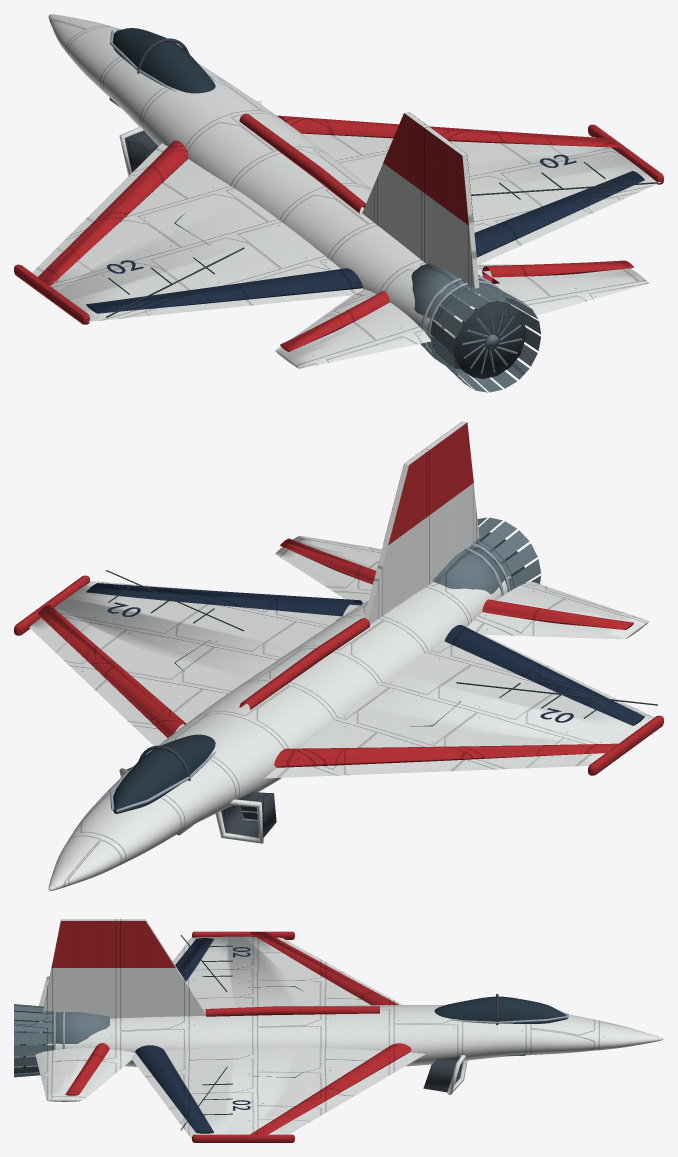
File: akari.glb
The picture shows the model from 3 angles, top to bottom: view 1: azimuth 30°, elevation 25°; view 2: azimuth 150°, elevation 25°; view 3: azimuth 270°, elevation 25°; orthographic projection. The views are drawn at different scales.
Parts seen in each view (by area): view 1: lacquer-surfaces, vermilion-surfaces, midnight-surfaces, titanium-surfaces, graphite-surfaces, Cockpit glass-surfaces, silver-surfaces, carbon-surfaces; view 2: lacquer-surfaces, vermilion-surfaces, midnight-surfaces, titanium-surfaces, Cockpit glass-surfaces, carbon-surfaces, graphite-surfaces, silver-surfaces; view 3: lacquer-surfaces, vermilion-surfaces, titanium-surfaces, midnight-surfaces, Cockpit glass-surfaces, carbon-surfaces, graphite-surfaces, silver-surfaces.
Part boxes in pixels (x1,y1,x2,y2): lacquer-surfaces: [32, 14, 660, 368]; vermilion-surfaces: [14, 112, 663, 351]; midnight-surfaces: [86, 154, 644, 313]; titanium-surfaces: [109, 97, 540, 392]; graphite-surfaces: [105, 146, 657, 378]; Cockpit glass-surfaces: [113, 28, 215, 93]; silver-surfaces: [110, 29, 506, 367]; carbon-surfaces: [124, 38, 189, 172]; lacquer-surfaces: [29, 421, 654, 890]; vermilion-surfaces: [14, 422, 663, 775]; midnight-surfaces: [86, 583, 644, 725]; titanium-surfaces: [177, 517, 540, 835]; Cockpit glass-surfaces: [113, 734, 215, 813]; carbon-surfaces: [126, 745, 276, 837]; graphite-surfaces: [106, 532, 657, 819]; silver-surfaces: [110, 542, 510, 812]; lacquer-surfaces: [35, 919, 663, 1139]; vermilion-surfaces: [51, 921, 411, 1142]; titanium-surfaces: [14, 1004, 525, 1077]; midnight-surfaces: [135, 938, 250, 1133]; Cockpit glass-surfaces: [434, 996, 567, 1023]; carbon-surfaces: [423, 993, 498, 1092]; graphite-surfaces: [23, 935, 433, 1130]; silver-surfaces: [53, 1010, 568, 1050].
Bounding box in the file's own units: 6.86 × 2.39 × 9.15.
Materials: 8 (7 with a texture image).
